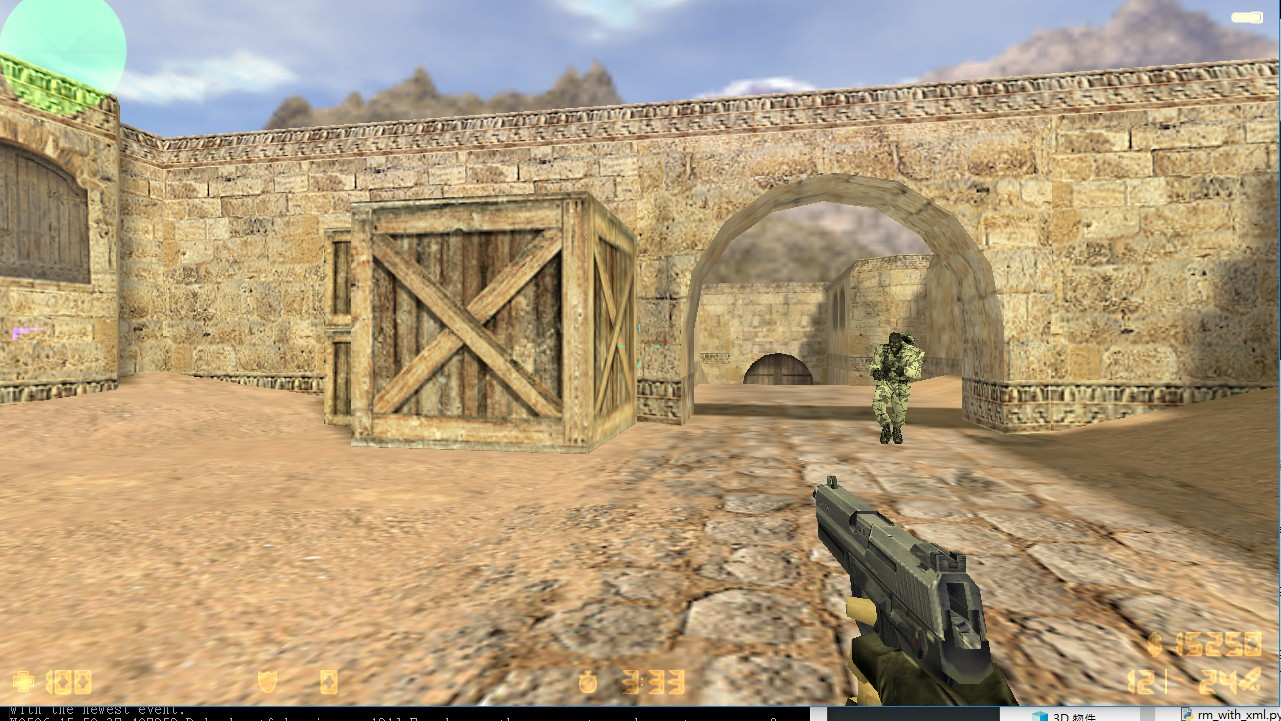person: (862, 326, 928, 454)
